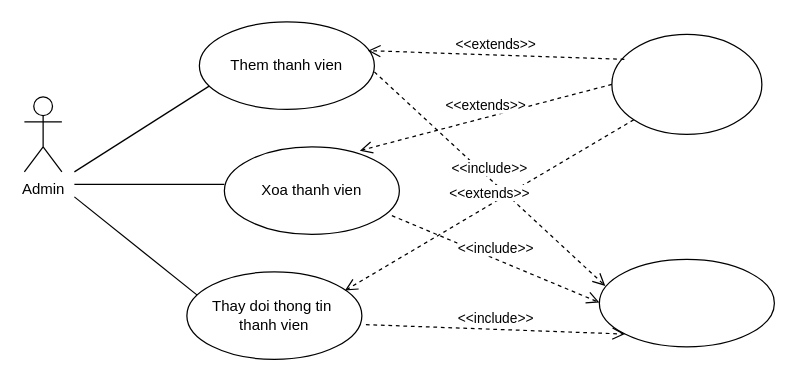
The diagram is 796 pixels wide and 381 high, and some of its shapes have lost their labels. Each missing label, with the centre of its shape:
"Xem danh sách user" goes at pixel 686 83.
"Đăng nhập" goes at pixel 686 302.
